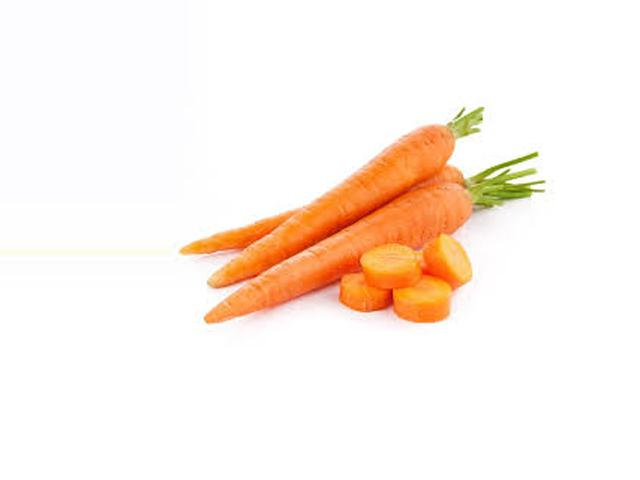carrot: (199, 174, 495, 324)
